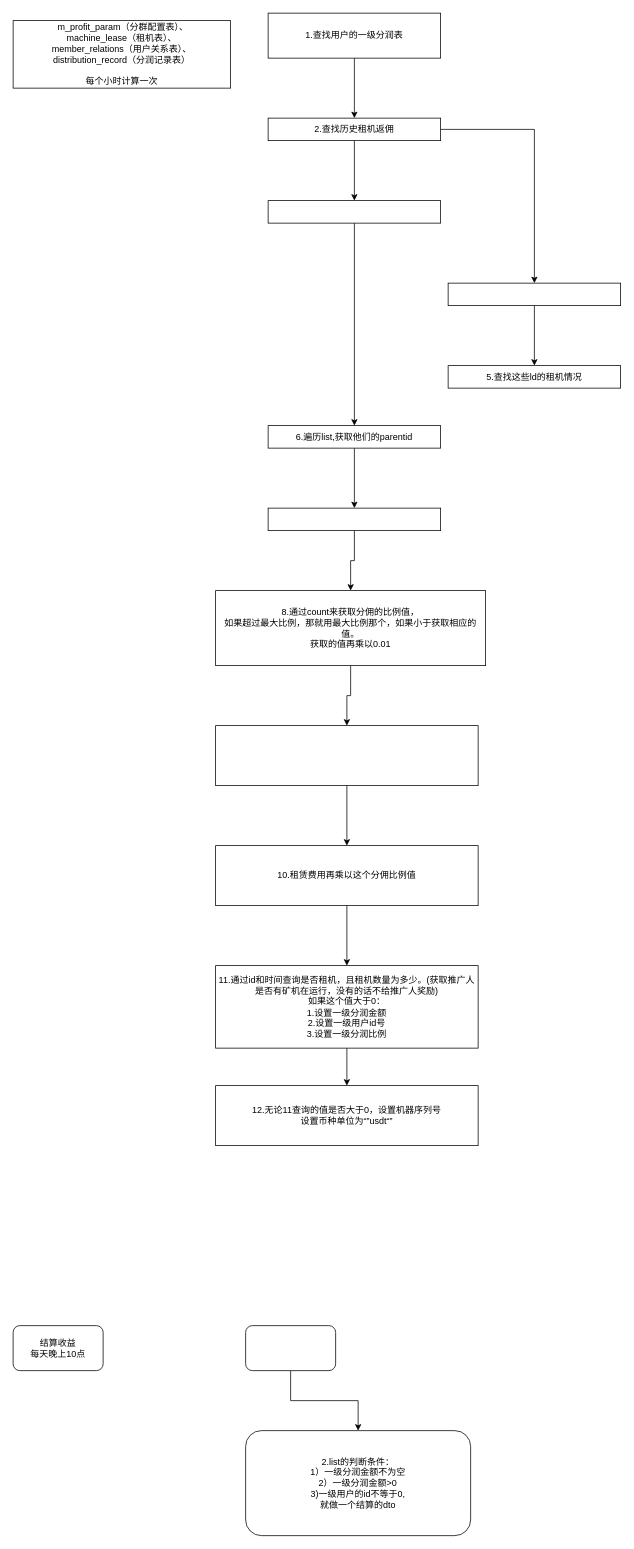
The diagram is 634 pixels wide and 1549 high, and some of its shapes have lost their labels. The centre of each missing label's shape, as x and y in pixels:
"1、查询所有未删除的分润记录表。 如果小于0，则不做运算" belongs at point (290, 1348).
"3.获取目前12（指定人数）的返佣比例，返回分佣比例值。添加到HashMap" belongs at point (354, 211).
"4.收集响应的id，整合成list" belongs at point (534, 294).
"7.根据推广人id,查出被推广人租了多少台矿机。" belongs at point (354, 519).
"9.遍历machinelease,获取单个machine的信息" belongs at point (346, 755).
